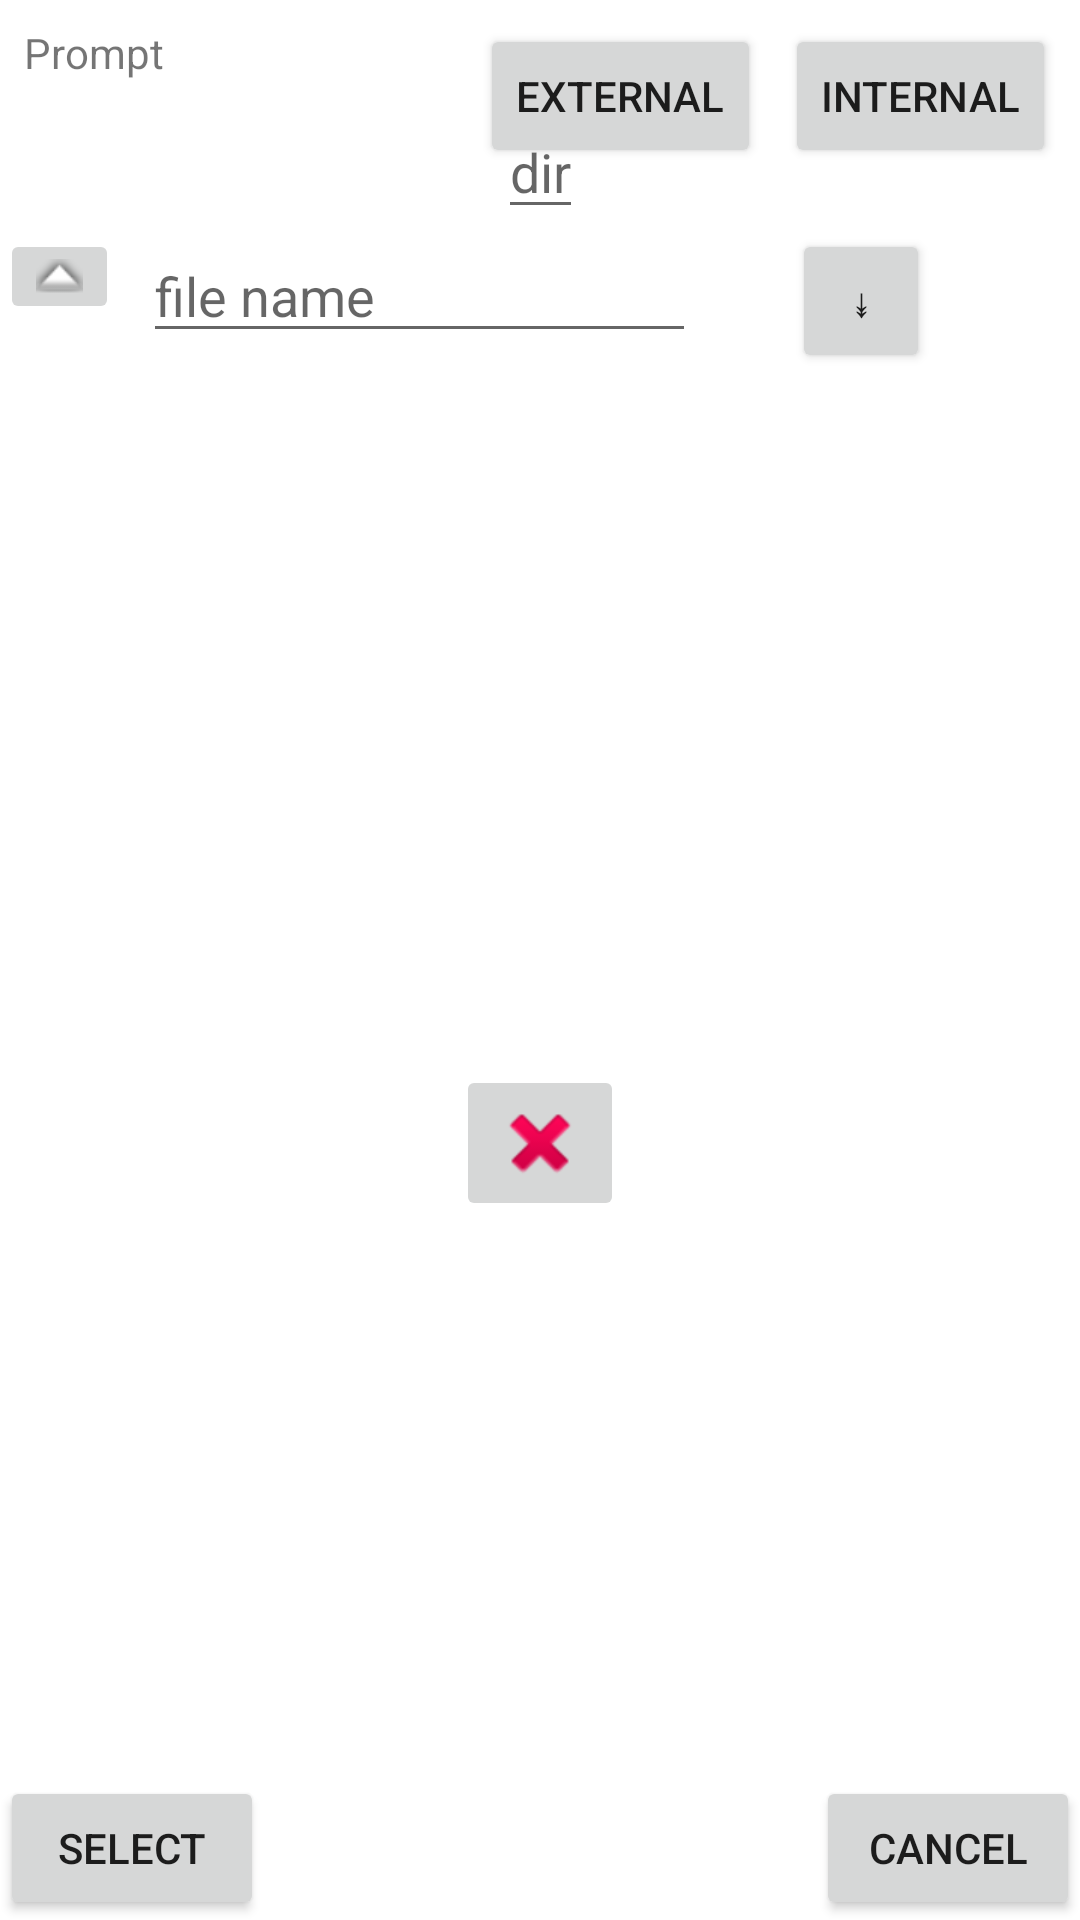

Icons on this 1080 x 1920 Android screen, each with the point to tap as (x=x, y=y):
delete selected: (x=540, y=1143)
goto parent directory: (x=59, y=276)
